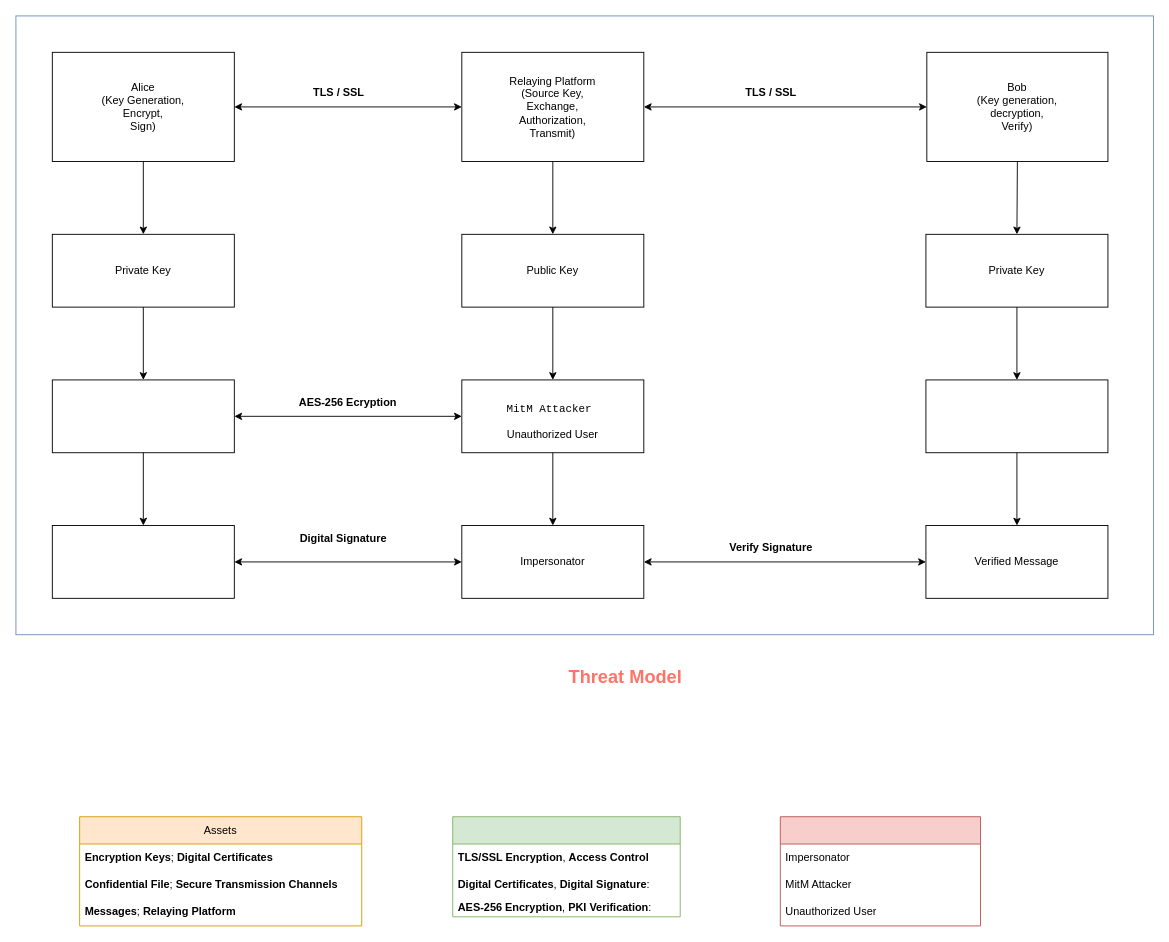
This 1169x942 diagram has some shape labels left out. Here are the shapes that lost their labels. From the top down, the box of each, then its label:
(51, 379, 234, 453): Encrypted File (AES-256)
(925, 379, 1108, 453): Decrypted File
(51, 525, 234, 598): Signed Message (SHA-256)
(452, 816, 680, 917): Security Control
(779, 816, 981, 926): Threat Actors
